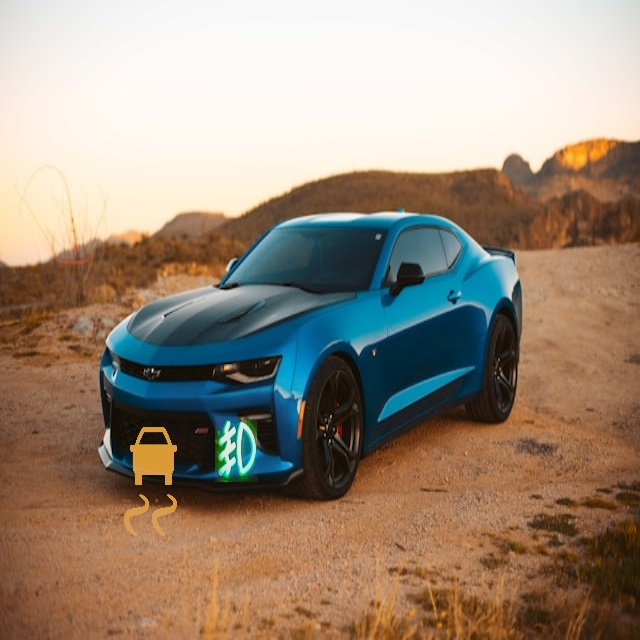symbol: (161, 378, 311, 528), (82, 412, 222, 552), (14, 14, 145, 145), (8, 159, 137, 288)
